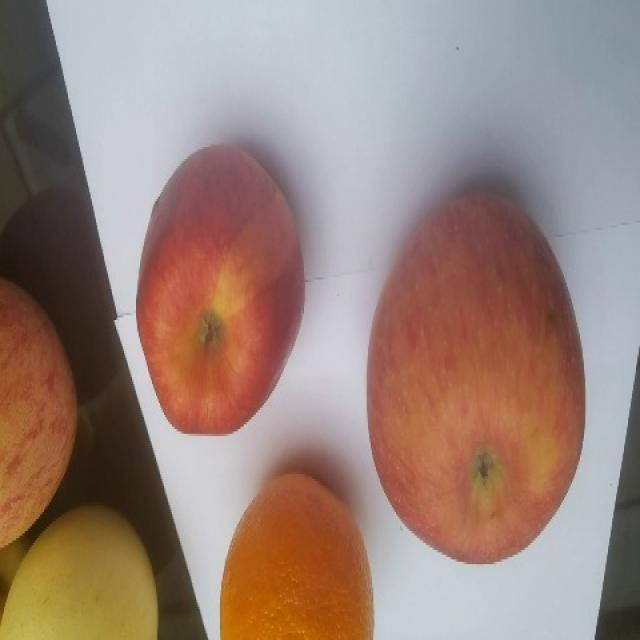Apple: (365, 191, 586, 564), (134, 143, 305, 435), (0, 276, 78, 549)
Orange: (218, 471, 374, 639)
